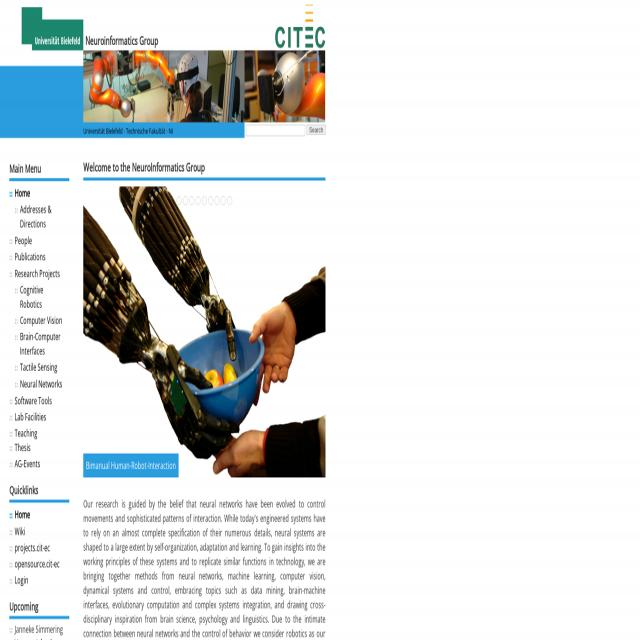button: (84, 187, 326, 477), (83, 51, 244, 122), (245, 51, 325, 122), (22, 8, 83, 50), (275, 5, 325, 48), (306, 124, 326, 134)
field: (246, 125, 305, 136)
